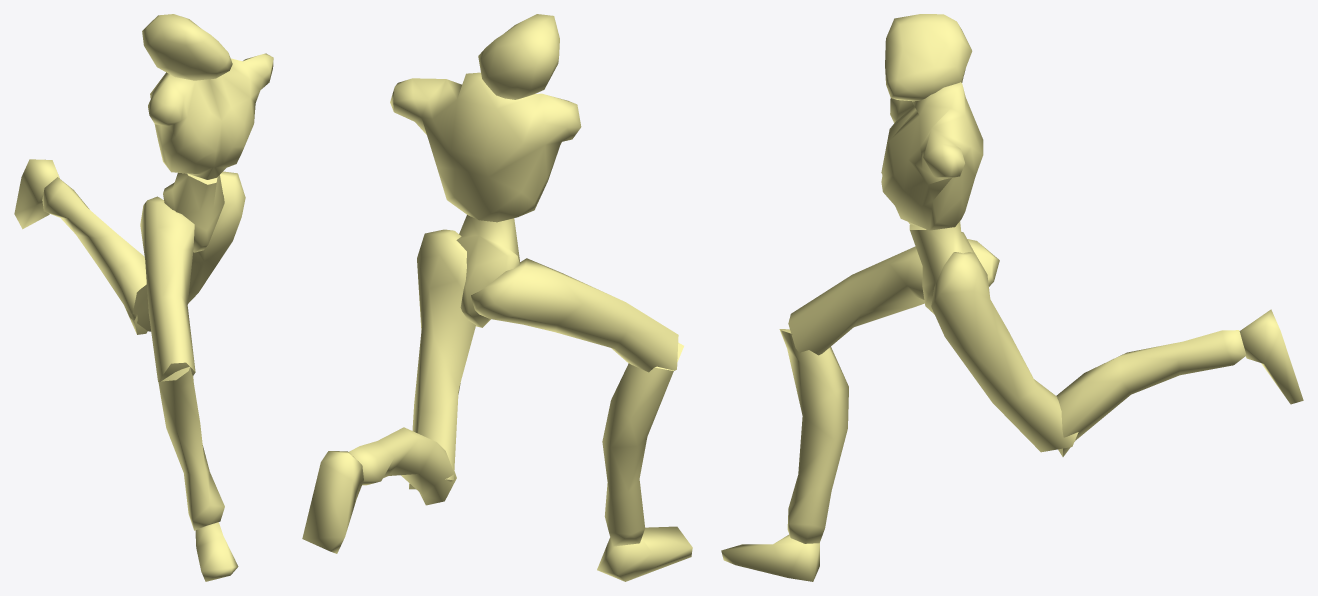
Rendered from filth19.obj.
3 renders of one model, left to right at view 1: azimuth 30°, elevation 25°; view 2: azimuth 150°, elevation 25°; view 3: azimuth 270°, elevation 25°, orthographic. The views are drawn at different scales.
Visible parts, largest first — view 1: Melee_Husk; view 2: Melee_Husk; view 3: Melee_Husk.
Boxes of the visible parts, box(x1,y1,x2,y2) form: Melee_Husk: box(14, 14, 273, 581); Melee_Husk: box(302, 14, 692, 581); Melee_Husk: box(721, 14, 1303, 581).
Size of the model in its own units: 26.15 by 70.07 by 64.41.
